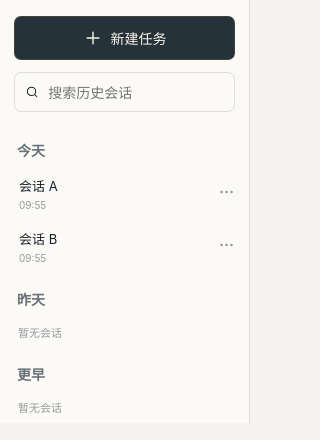
Sidebar session context menu › opens A, replaces it with B, and only renders one menu
Click the 1st button named "会话操作".
click(226, 194)  # box [214, 178, 239, 209]
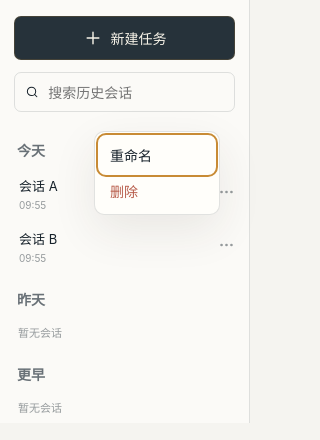
Check: the menu is shown, box [94, 131, 220, 215]
Check: the 1st button named "会话操作" is expanded, box [214, 178, 239, 209]
Click the 2nd button named "会话操作".
click(226, 246)  # box [214, 231, 239, 262]
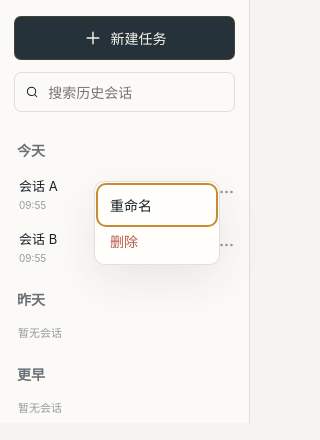
Check: the number of menus is 1, box [94, 181, 220, 265]
Check: the 1st button named "会话操作" is collapsed, box [214, 178, 239, 209]
